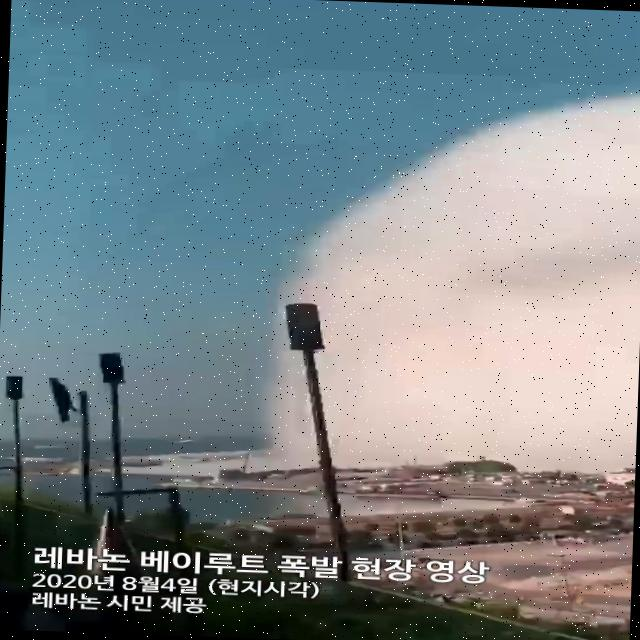explosion: (238, 65, 640, 496)
